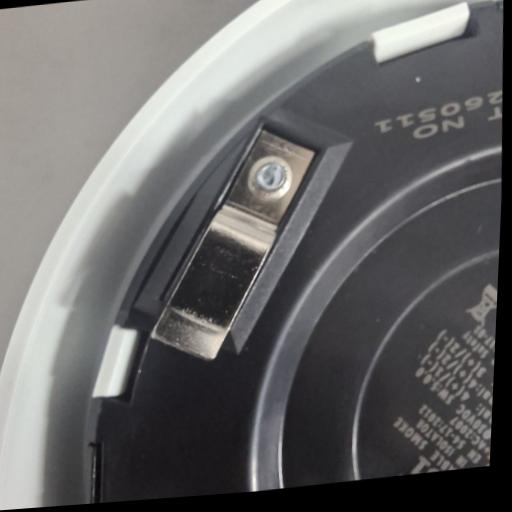yaysiz: (144, 123, 323, 368)
